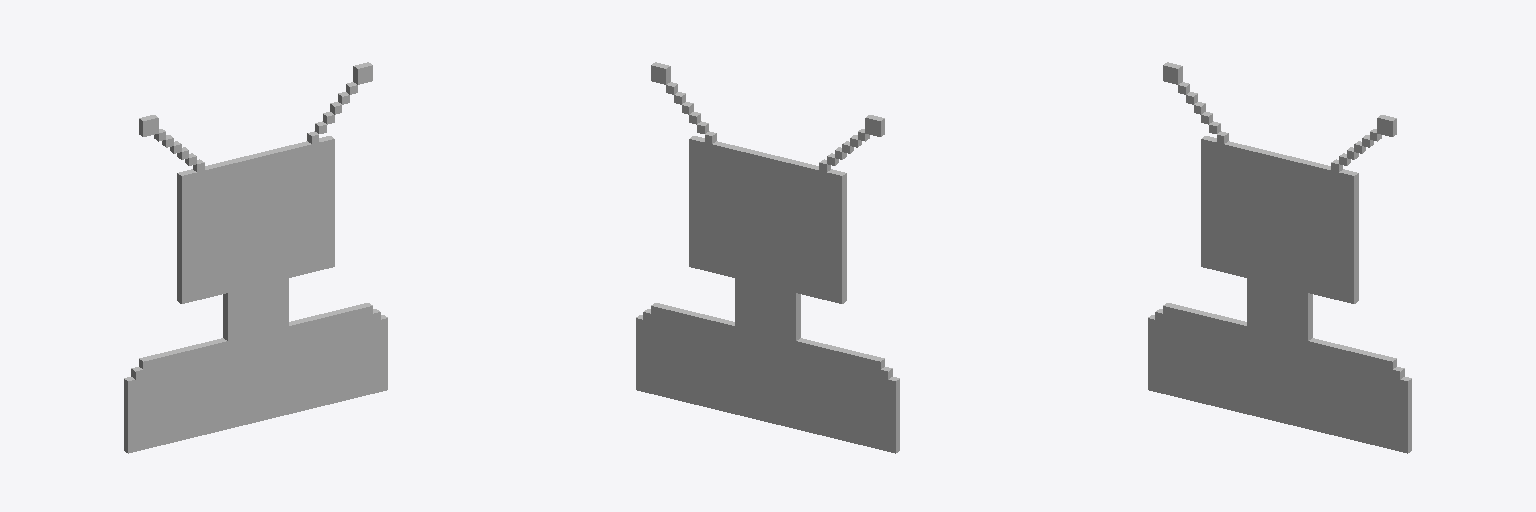
The model's file is Robot.obj.
3 renders of one model, left to right at view 1: azimuth 30°, elevation 25°; view 2: azimuth 150°, elevation 25°; view 3: azimuth 330°, elevation 25°, orthographic.
Parts seen in each view (by area): view 1: object 1; view 2: object 1; view 3: object 1.
Part boxes in pixels (bbox=[...]): object 1: bbox=[124, 62, 387, 453]; object 1: bbox=[636, 62, 899, 453]; object 1: bbox=[1148, 62, 1411, 453].
Size of the model in its own units: 3.4 by 4.1 by 0.1.